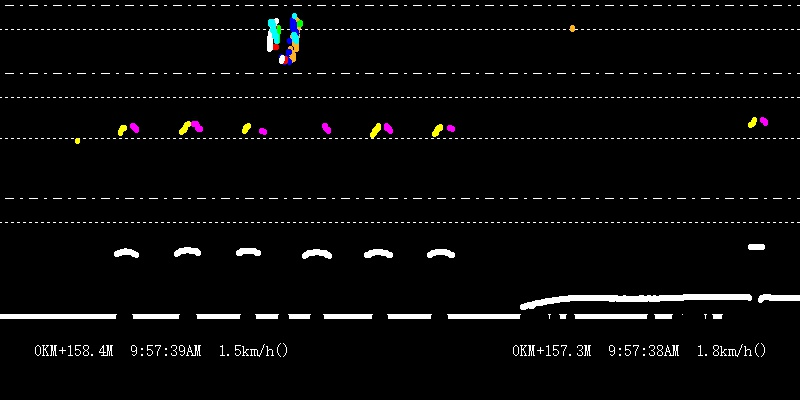J: (263, 4, 305, 63)
y_p: (108, 112, 460, 278)
